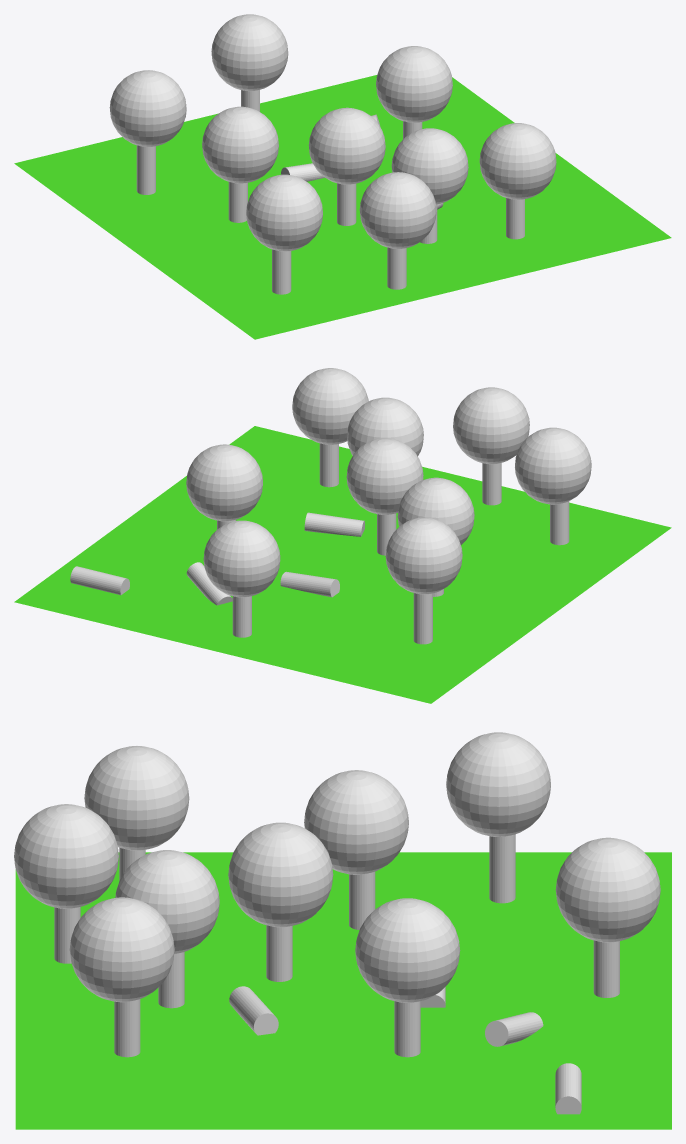
The picture shows the model from 3 angles, top to bottom: view 1: azimuth 30°, elevation 25°; view 2: azimuth 150°, elevation 25°; view 3: azimuth 270°, elevation 25°; orthographic projection. The views are drawn at different scales.
Visible parts, largest first — view 1: Grid, Sphere.016, Sphere.020, Sphere.019, Sphere.013, Sphere.014, Sphere.018, Sphere.021, Sphere.015, Sphere.017, Cylinder.001, Cylinder.006 (+5 smaller); view 2: Grid, Sphere.013, Sphere.016, Sphere.018, Sphere.019, Sphere.021, Sphere.015, Sphere.014, Sphere.020, Sphere.017, Cylinder.011, Cylinder.013 (+8 smaller); view 3: Grid, Sphere.015, Sphere.013, Sphere.019, Sphere.014, Sphere.018, Sphere.021, Sphere.020, Sphere.016, Sphere.017, Cylinder.001, Cylinder.008 (+9 smaller).
Part boxes in pixels (x1,y1,x2,y2): Grid: (14,75,671,339); Sphere.016: (246,174,322,251); Sphere.020: (202,106,278,183); Sphere.019: (109,70,186,146); Sphere.013: (211,14,288,91); Sphere.014: (479,123,556,199); Sphere.018: (376,46,452,122); Sphere.021: (359,172,436,248); Sphere.015: (308,107,385,184); Sphere.017: (391,128,468,204); Cylinder.001: (136,145,155,194); Cylinder.006: (272,249,291,294); Grid: (14,426,671,703); Sphere.013: (203,520,280,597); Sphere.016: (515,427,591,504); Sphere.018: (186,444,262,521); Sphere.019: (385,517,462,594); Sphere.021: (453,387,529,464); Sphere.015: (346,438,423,514); Sphere.014: (292,368,368,444); Sphere.020: (397,477,474,544); Sphere.017: (347,397,423,456); Cylinder.011: (304,512,364,536); Cylinder.013: (70,566,129,595); Grid: (15,852,671,1129); Sphere.015: (228,822,333,927); Sphere.013: (555,837,660,942); Sphere.019: (446,732,550,836); Sphere.014: (69,897,174,1002); Sphere.018: (355,898,460,1002); Sphere.021: (14,804,118,908); Sphere.020: (304,770,408,874); Sphere.016: (84,746,189,850); Sphere.017: (115,850,219,954); Cylinder.001: (489,834,515,903); Cylinder.008: (593,940,619,997).
Bounding box in the file's own units: 5000 × 1471 × 5014.
